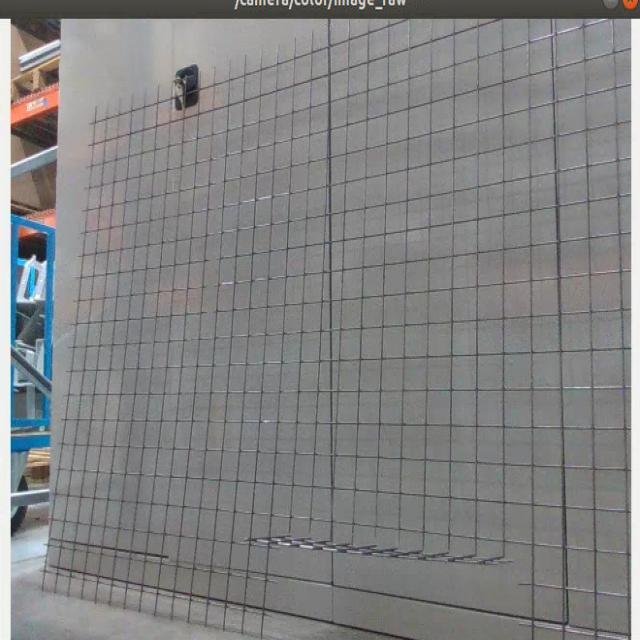fence line: (266, 536, 516, 634)
